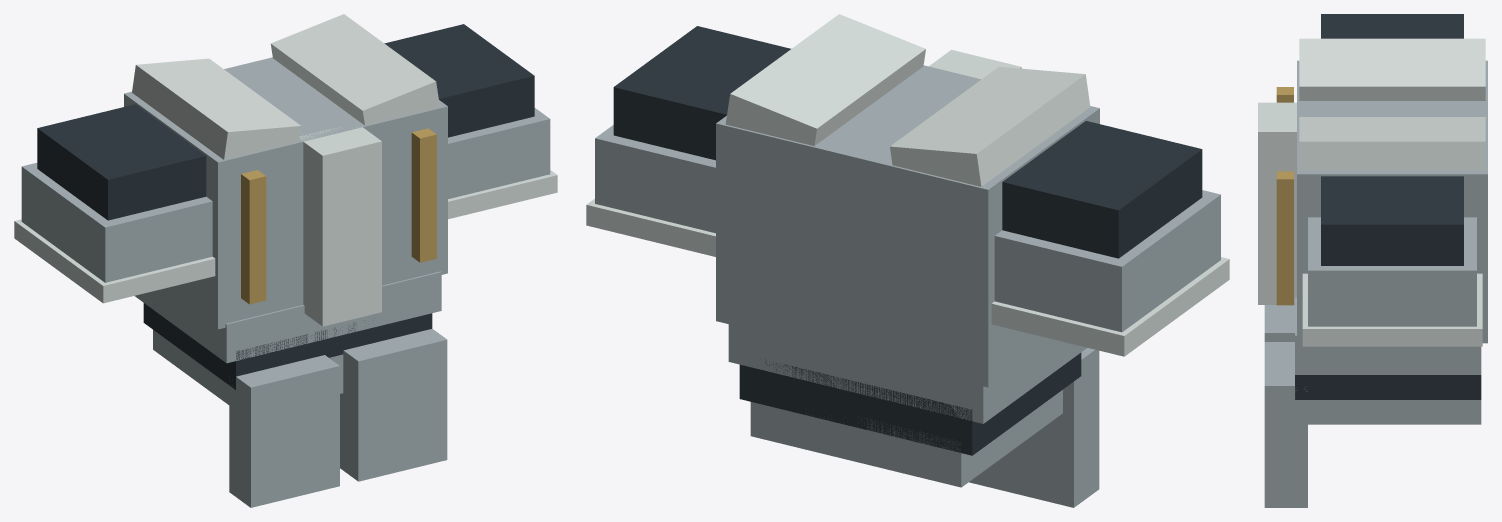
File: fixed-plate.glb
3 views of the same model, side by side, from view 1: azimuth 30°, elevation 25°; view 2: azimuth 150°, elevation 25°; view 3: azimuth 270°, elevation 25° (orthographic). The views are drawn at different scales.
Visible parts, largest first — view 1: piece_torso, piece_armR, piece_waist, piece_armL; view 2: piece_torso, piece_armR, piece_armL, piece_waist; view 3: piece_torso, piece_armL, piece_waist, piece_armR.
Boxes of the visible parts, <box> form: piece_torso: <box>124,14,447,404</box>; piece_armR: <box>14,104,215,303</box>; piece_waist: <box>229,328,447,507</box>; piece_armL: <box>384,24,557,219</box>; piece_torso: <box>716,14,1099,487</box>; piece_armR: <box>991,121,1229,356</box>; piece_armL: <box>586,26,790,256</box>; piece_waist: <box>969,348,1099,507</box>; piece_torso: <box>1258,38,1487,424</box>; piece_armL: <box>1302,176,1482,346</box>; piece_waist: <box>1264,305,1307,507</box>; piece_armR: <box>1321,14,1463,38</box>.
Size of the model in its own units: 1.23 by 0.9393 by 0.53.
